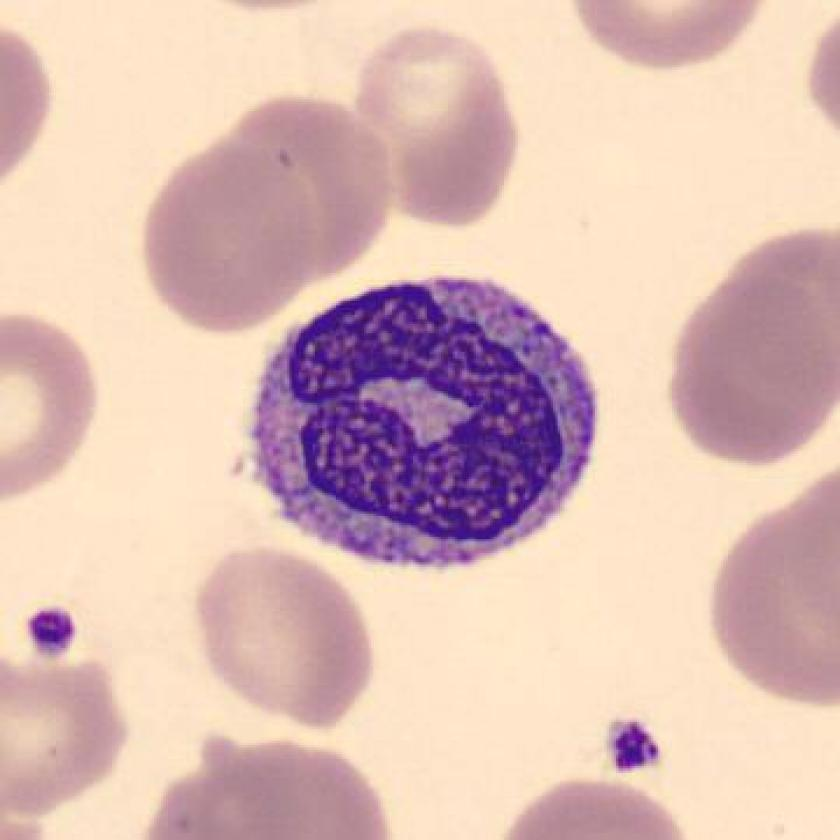monocyte: (232, 260, 617, 596)
